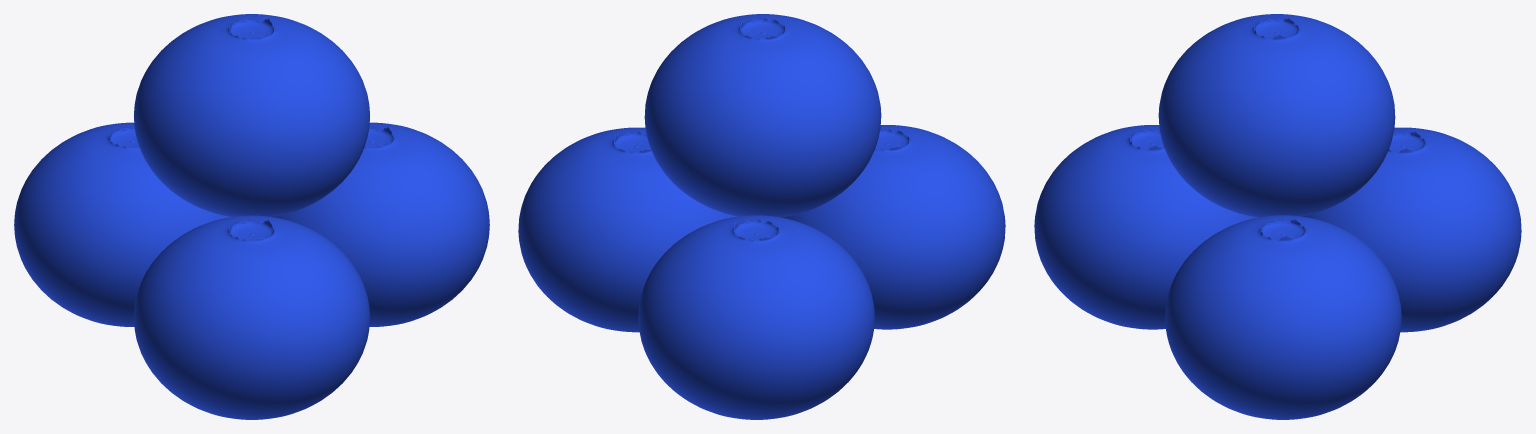
File: blueberry.fbx
The picture shows the model from 3 angles, left to right: view 1: azimuth 30°, elevation 25°; view 2: azimuth 150°, elevation 25°; view 3: azimuth 270°, elevation 25°; orthographic projection.
Parts seen in each view (by area): view 1: blueberry; view 2: blueberry; view 3: blueberry.
Part boxes in pixels (x1,y1,x2,y2): blueberry: (14,14,489,419); blueberry: (518,14,1005,419); blueberry: (1034,14,1521,419).
Size of the model in its own units: 376 by 296 by 406.
